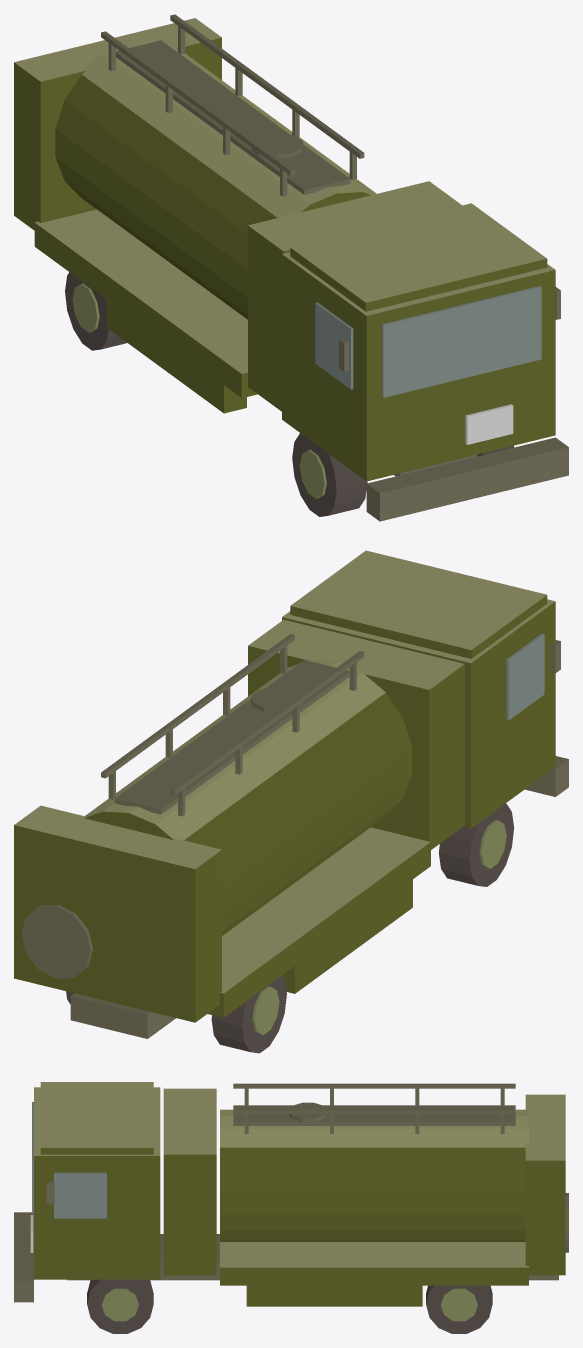
The model's file is SM_CamionCisterna_v0_Aparcado_LOD0.fbx.
3 renders of one model, top to bottom at view 1: azimuth 30°, elevation 25°; view 2: azimuth 150°, elevation 25°; view 3: azimuth 270°, elevation 25°, orthographic. The views are drawn at different scales.
Visible parts, largest first — view 1: SM_camion_cisterna_v0_LOD0; view 2: SM_camion_cisterna_v0_LOD0; view 3: SM_camion_cisterna_v0_LOD0.
Boxes of the visible parts, x1,y1,x2,y2 form: SM_camion_cisterna_v0_LOD0: (14, 14, 568, 521); SM_camion_cisterna_v0_LOD0: (14, 550, 568, 1053); SM_camion_cisterna_v0_LOD0: (14, 1082, 568, 1333).
Size of the model in its own units: 2.81 by 3.4 by 8.35.
